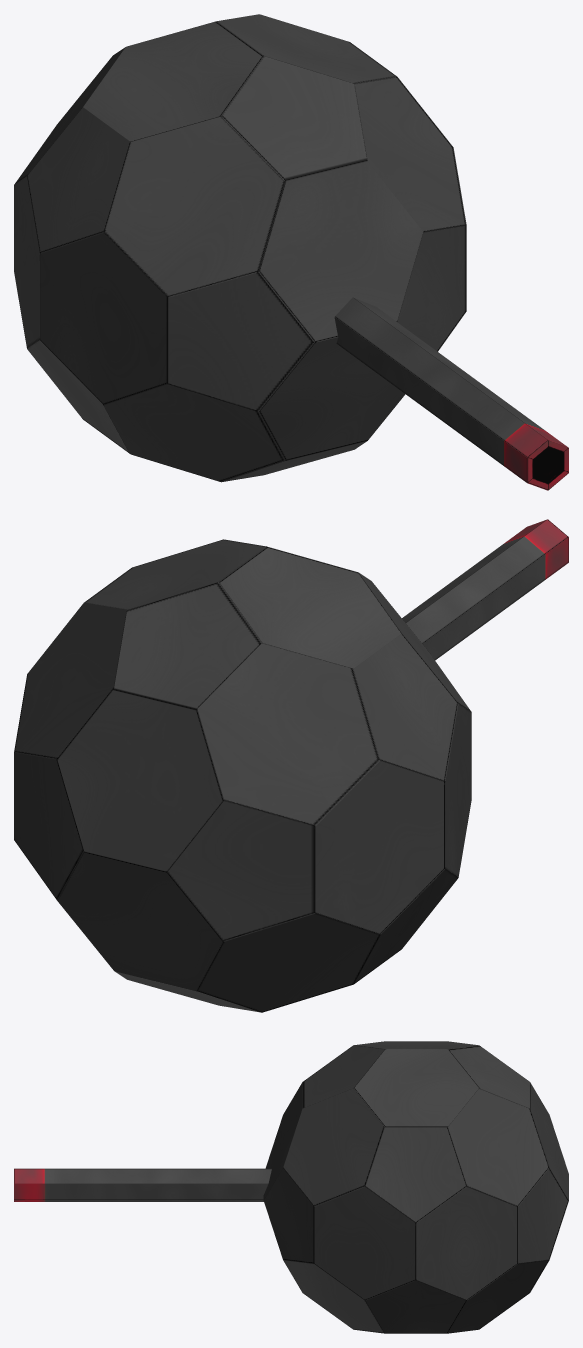
File: OrbitingPlatformFBX.fbx
3 renders of one model, top to bottom at view 1: azimuth 30°, elevation 25°; view 2: azimuth 150°, elevation 25°; view 3: azimuth 270°, elevation 25°, orthographic. The views are drawn at different scales.
Parts seen in each view (by area): view 1: polySurface2, polySurface3; view 2: polySurface2, polySurface3; view 3: polySurface2, polySurface3.
Boxes of the visible parts, x1,y1,x2,y2 form: polySurface2: [14, 14, 466, 482]; polySurface3: [334, 297, 568, 490]; polySurface2: [14, 539, 471, 1012]; polySurface3: [402, 519, 568, 660]; polySurface2: [263, 1041, 568, 1333]; polySurface3: [14, 1168, 271, 1201].
Size of the model in its own units: 9.38 by 9.38 by 17.04.
2 materials, 2 textured.
